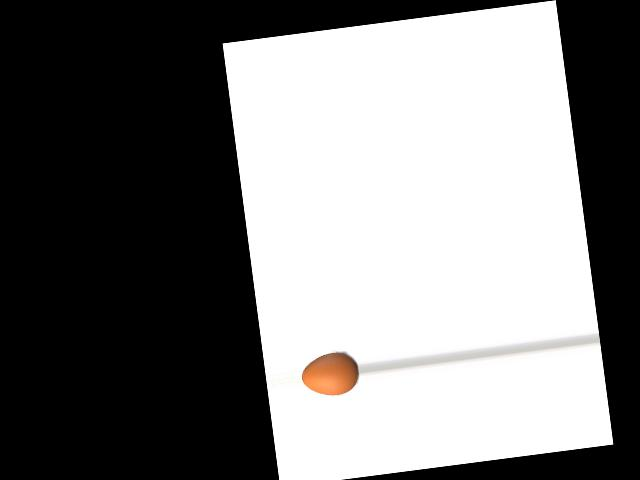egg: (300, 349, 361, 399)
